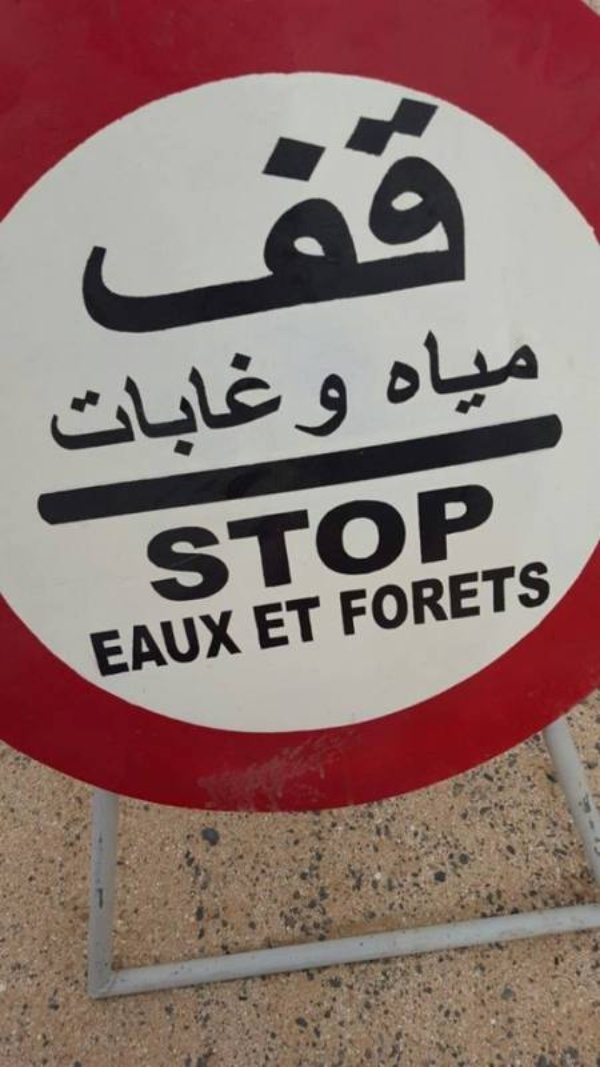text: (81, 87, 96, 346), (97, 87, 112, 346), (113, 87, 128, 346), (129, 87, 144, 346), (145, 87, 160, 346), (161, 87, 176, 346), (177, 87, 192, 346), (193, 87, 208, 346), (209, 87, 224, 346), (225, 87, 240, 346), (241, 87, 256, 346), (257, 87, 272, 346), (273, 87, 288, 346), (289, 87, 304, 346), (305, 87, 320, 346), (321, 87, 336, 346), (337, 87, 352, 346), (353, 87, 368, 346), (369, 87, 384, 346), (385, 87, 400, 346), (401, 87, 416, 346), (417, 87, 432, 346), (433, 87, 448, 346), (449, 87, 464, 346), (465, 87, 480, 346), (145, 479, 160, 609), (161, 479, 176, 609), (177, 479, 192, 609), (193, 479, 208, 609), (209, 479, 224, 609), (225, 479, 240, 609), (241, 479, 256, 609), (257, 479, 272, 609), (273, 479, 288, 609), (289, 479, 304, 609), (305, 479, 320, 609), (321, 479, 336, 609), (337, 479, 352, 609), (353, 479, 368, 609), (369, 479, 384, 609), (385, 479, 400, 609), (401, 479, 416, 609), (417, 479, 432, 609), (433, 479, 448, 609), (449, 479, 464, 609), (465, 479, 480, 609), (481, 479, 496, 609), (49, 349, 64, 477), (65, 349, 80, 477), (81, 349, 96, 477), (97, 349, 112, 477), (113, 349, 128, 477), (129, 349, 144, 477), (145, 349, 160, 477), (161, 349, 176, 477), (177, 349, 192, 477), (193, 349, 208, 477), (209, 349, 224, 477), (225, 349, 240, 477), (241, 349, 256, 477), (257, 349, 272, 477), (385, 311, 400, 427), (401, 311, 416, 427), (417, 311, 432, 427), (433, 311, 448, 427), (449, 311, 464, 427), (465, 311, 480, 427), (481, 311, 496, 427), (497, 311, 512, 427), (513, 311, 528, 427), (529, 311, 544, 427), (273, 349, 286, 477), (37, 349, 48, 477), (75, 87, 80, 346), (337, 557, 352, 637), (353, 557, 368, 637), (369, 557, 384, 637), (385, 557, 400, 637), (401, 557, 416, 637), (417, 557, 432, 637), (433, 557, 448, 637), (449, 557, 464, 637), (465, 557, 480, 637), (481, 557, 496, 637), (497, 557, 512, 637), (513, 557, 528, 637), (529, 557, 544, 637), (289, 369, 304, 446), (305, 369, 320, 446), (321, 369, 336, 446), (337, 369, 352, 446), (97, 607, 112, 679), (113, 607, 128, 679), (129, 607, 144, 679), (145, 607, 160, 679), (161, 607, 176, 679), (177, 607, 192, 679), (193, 607, 208, 679), (209, 607, 224, 679), (225, 607, 240, 679), (497, 479, 505, 609), (545, 311, 553, 427), (257, 595, 272, 651), (273, 595, 288, 651), (289, 595, 304, 651), (305, 595, 320, 651), (139, 479, 144, 609), (379, 311, 384, 427), (89, 607, 96, 679), (545, 557, 551, 637), (353, 369, 359, 446), (241, 607, 247, 679), (283, 369, 288, 446), (321, 595, 327, 651), (481, 87, 482, 346), (253, 595, 256, 651)
